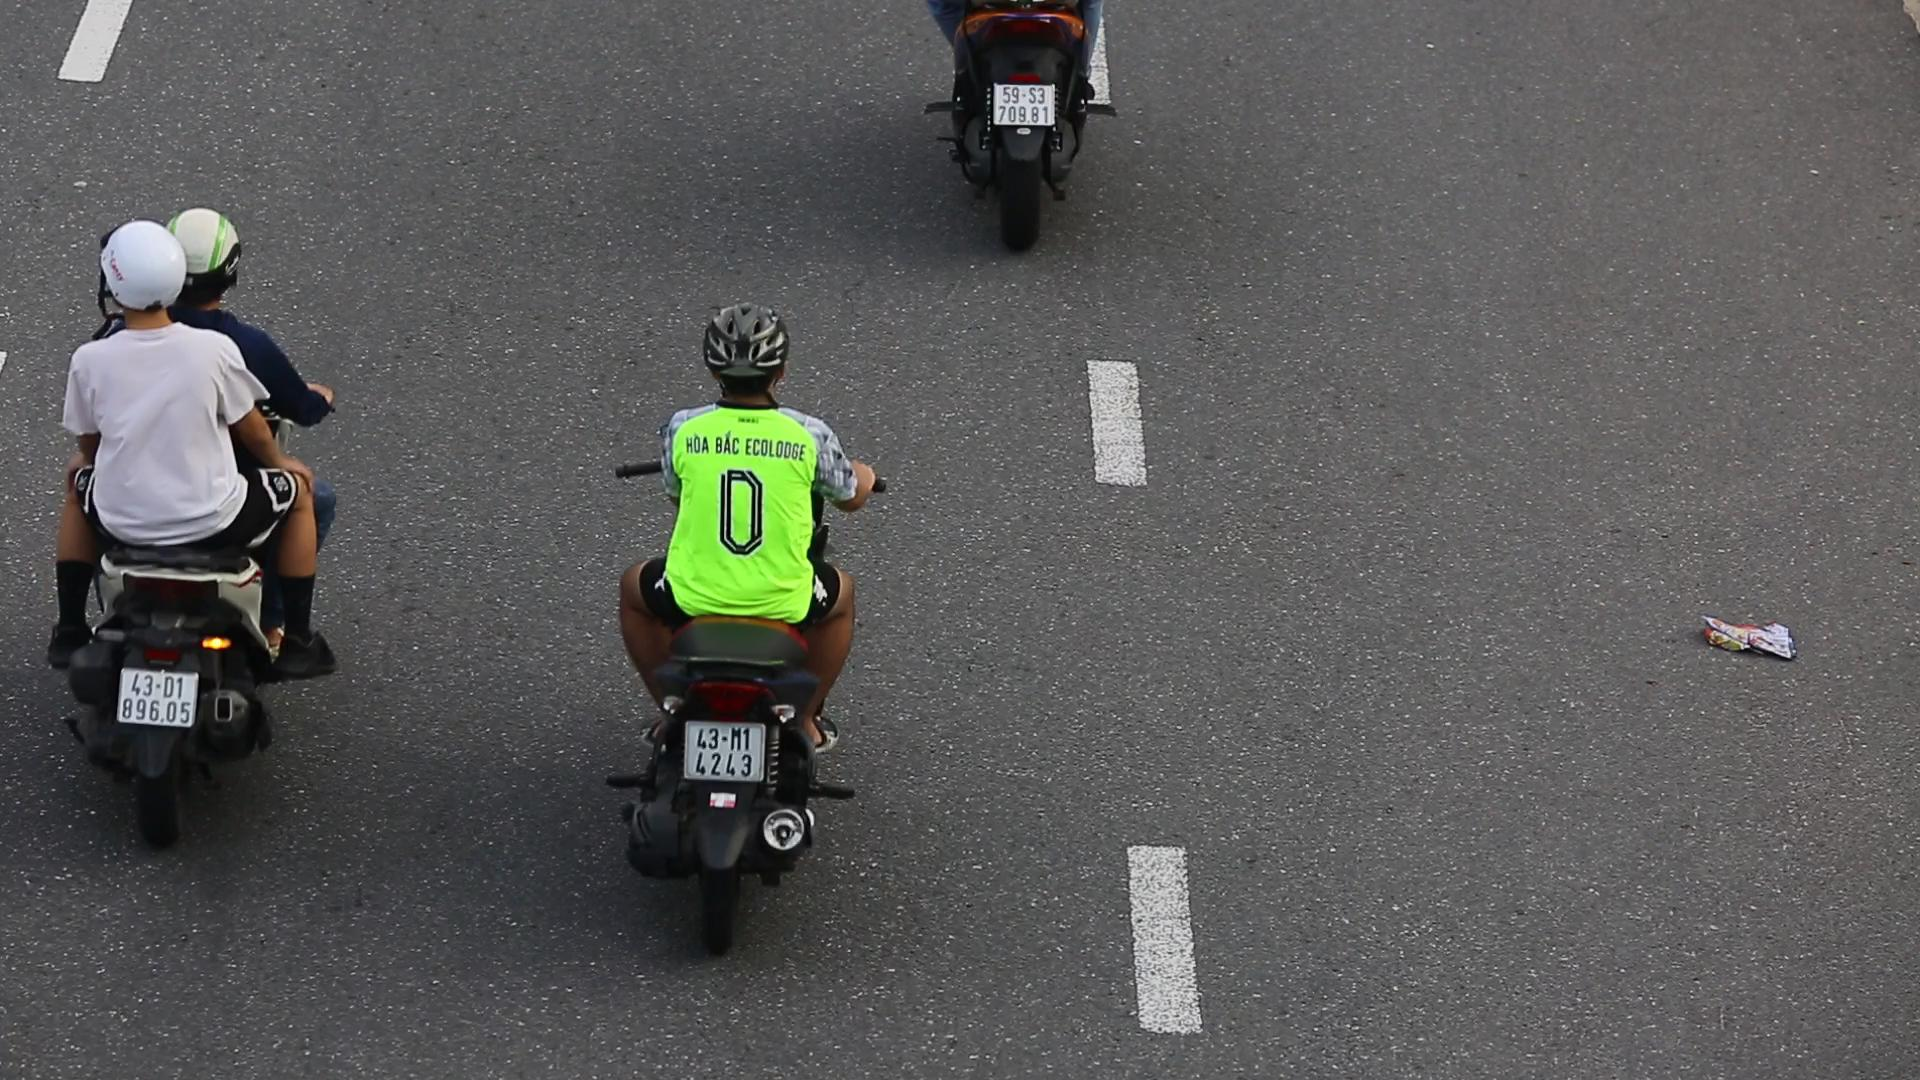motobike: (588, 285, 898, 975), (33, 191, 349, 861)
